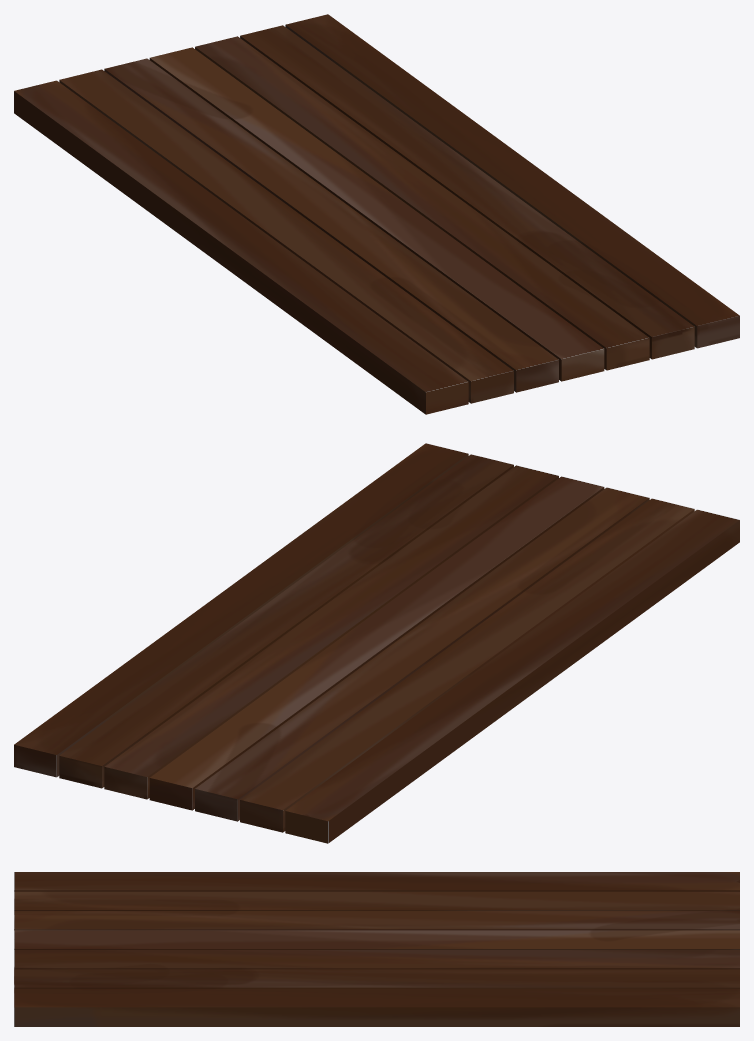
Rendered from Table.glb.
3 renders of one model, top to bottom at view 1: azimuth 30°, elevation 25°; view 2: azimuth 150°, elevation 25°; view 3: azimuth 270°, elevation 25°, orthographic. The views are drawn at different scales.
Parts seen in each view (by area): view 1: Table; view 2: Table; view 3: Table.
Part boxes in pixels (x1,y1,x2,y2): Table: (14,14,739,414); Table: (14,443,739,843); Table: (14,872,739,1026).
Size of the model in its own units: 29.38 by 2 by 66.72.
1 material, 1 textured.
